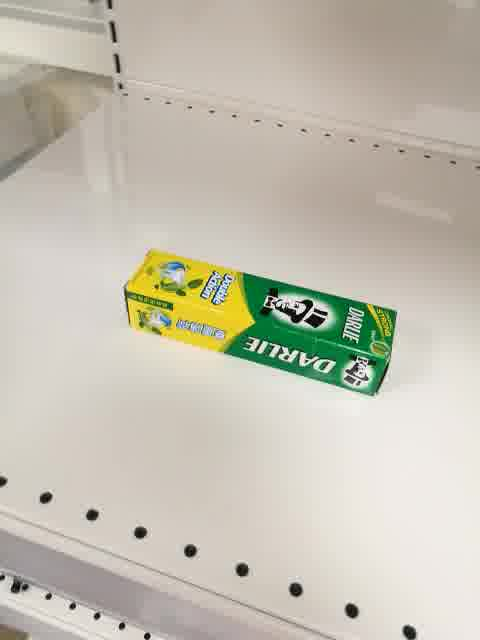toothpaste: (123, 249, 399, 398)
